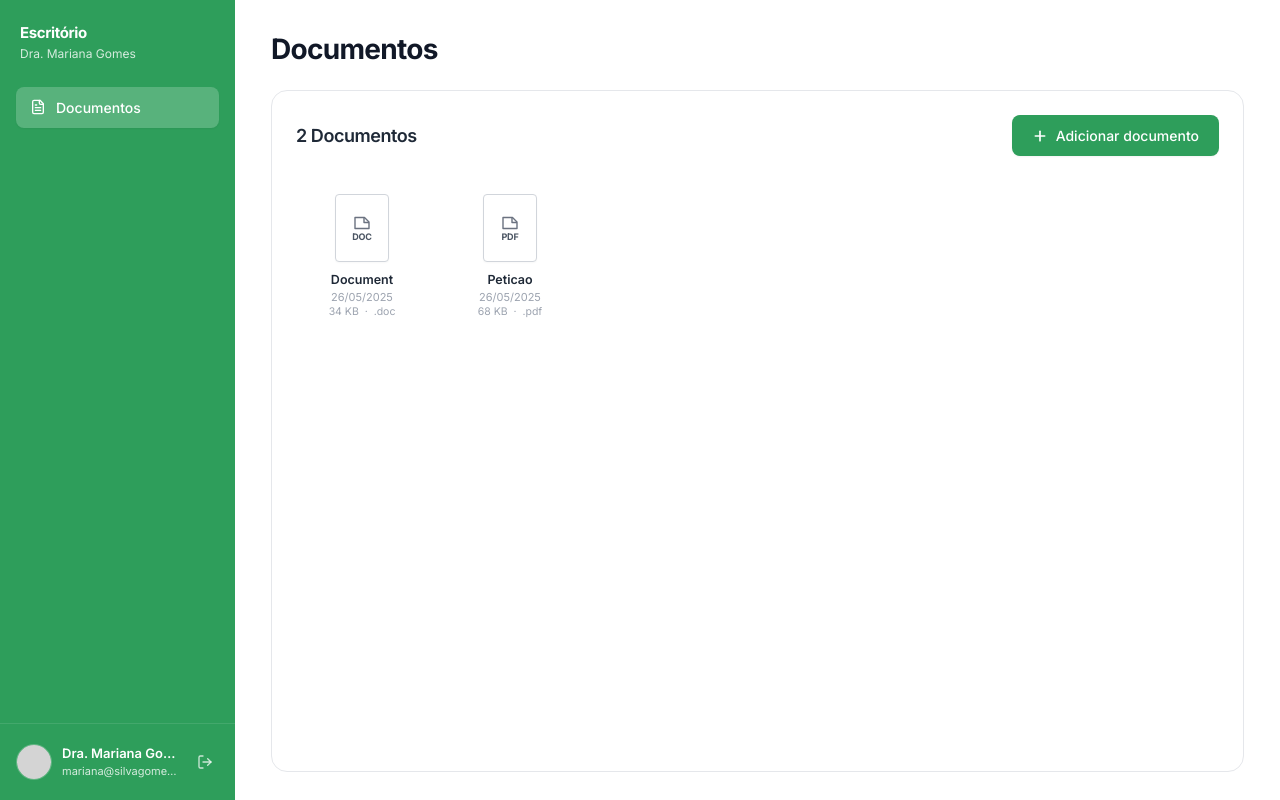
DocumentsPage — Fluxos do Protótipo (.insp) › deve abrir o modal "Prévia do Documento" com a análise da IA ao clicar em "Visualizar analise"
Expected: the heading "2 Documentos" is shown, 296,122 -> 417,149
What coordinates should you click on to do the following:
click the button with test id "document-card-doc-1"
I would click on:
 (362, 256)
Its box is 329,194 -> 395,318.
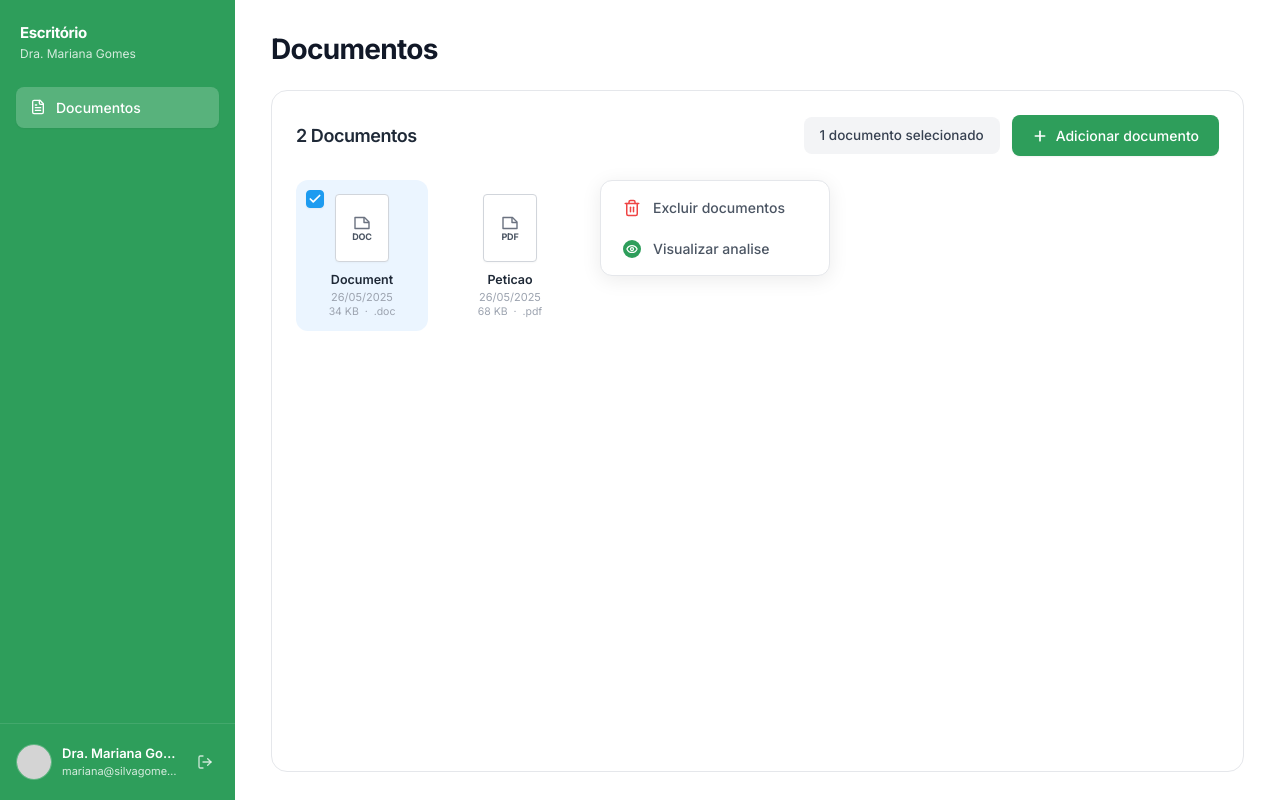
What coordinates should you click on to do the following:
click the button with test id "btn-view-analysis"
I would click on:
 (715, 248)
Its box is 611,230 -> 819,267.
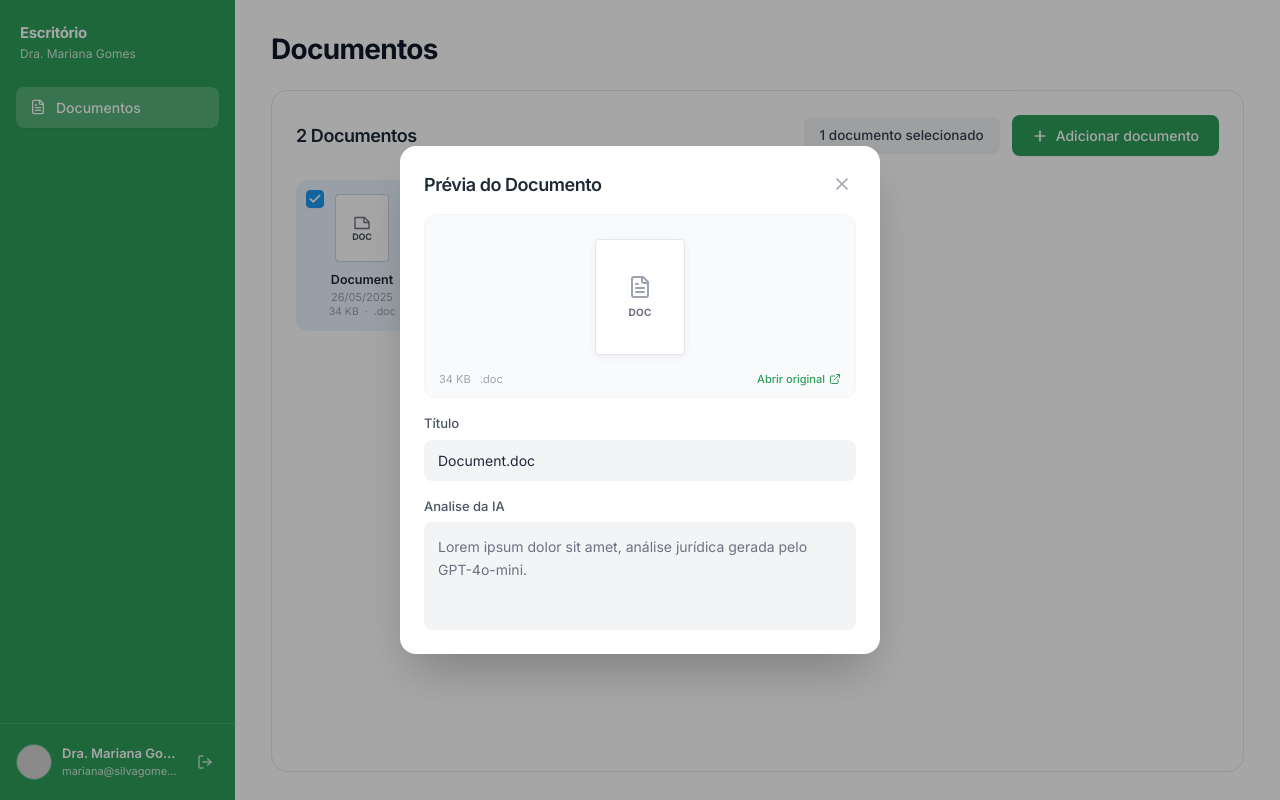
Result: the heading "Prévia do Documento" is shown at 424,170 -> 602,198
Result: the text with test id "analysis-modal-doc-title" reads "Document.doc" at 438,452 -> 535,468
Result: the text with test id "analysis-modal-ai-response" reads "Lorem ipsum dolor sit amet, análise jurídica gerada pelo GPT-4o-mini." at 438,538 -> 811,578
